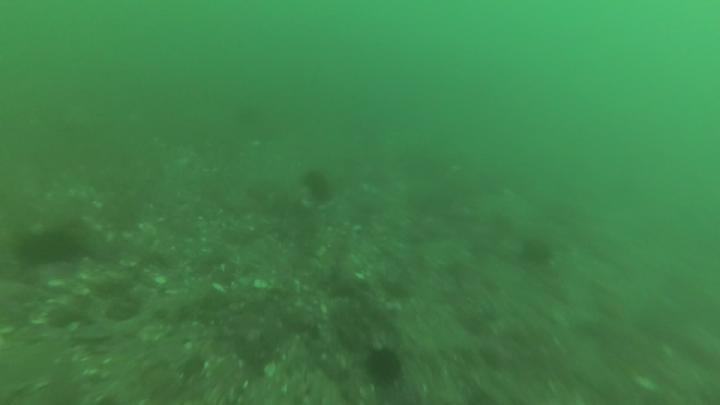echinus: (17, 228, 84, 269), (365, 344, 406, 389), (519, 233, 556, 269), (303, 168, 334, 201)
